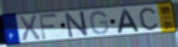A: (116, 8, 140, 34)
C: (138, 6, 159, 31)
F: (38, 13, 60, 42)
G: (89, 10, 110, 36)
N: (64, 10, 90, 39)
X: (17, 14, 43, 43)
